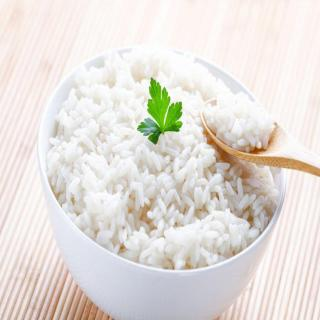Nasi: (46, 44, 282, 271), (202, 91, 278, 154)
